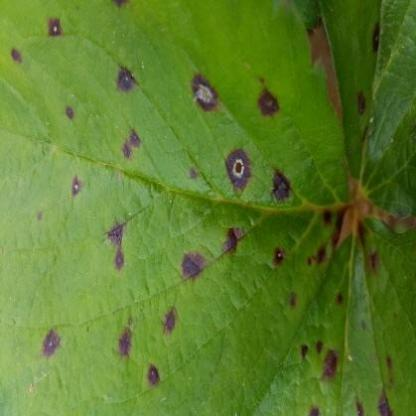Strawberry_Leaf_Spot: (0, 0, 351, 415), (253, 216, 415, 414), (318, 0, 416, 220)
